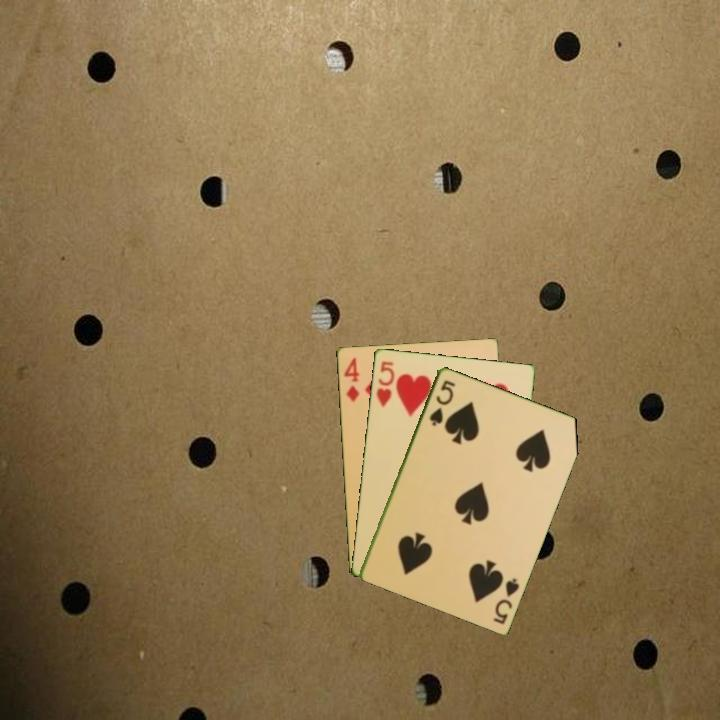4d: (340, 354, 362, 405)
5h: (373, 357, 397, 410)
5s: (489, 574, 522, 627), (426, 376, 458, 429)
